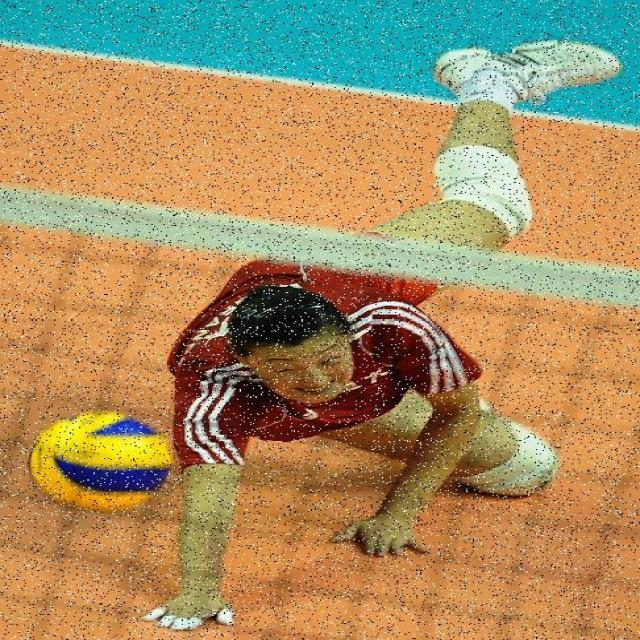fall: (150, 63, 580, 640)
